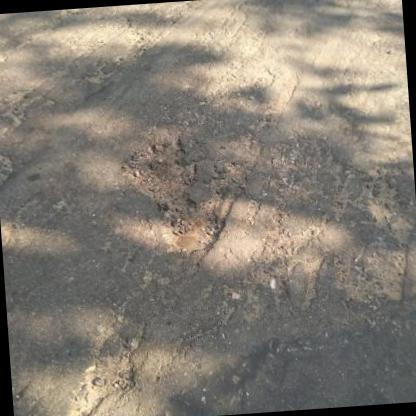pothole: (115, 136, 201, 202), (52, 353, 142, 416), (154, 197, 226, 256)
